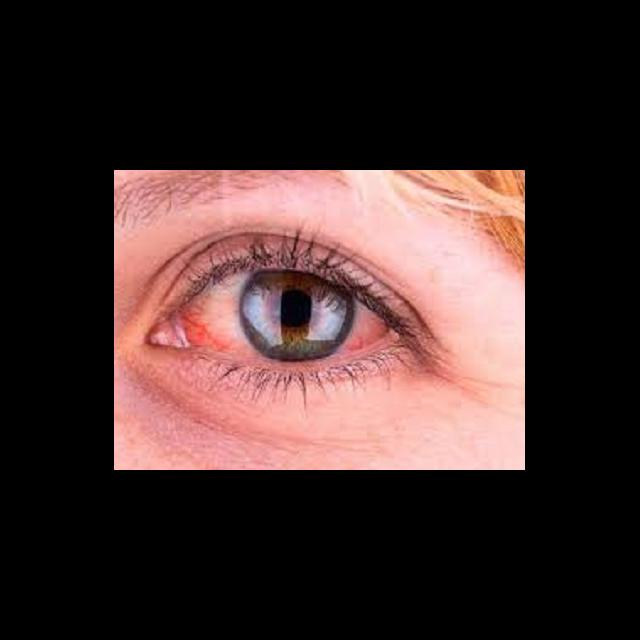eye: (189, 266, 389, 360)
iris: (239, 271, 357, 359)
